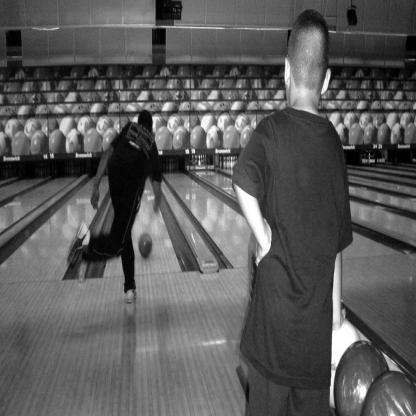Ball: (0, 66, 416, 164), (334, 340, 391, 416), (330, 320, 358, 406), (364, 373, 416, 415), (140, 231, 152, 258)
